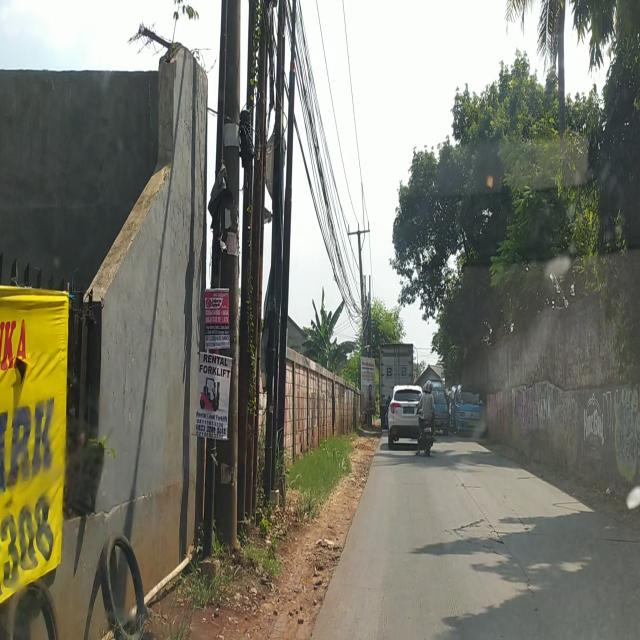Drain Hole: (450, 517, 504, 553)
